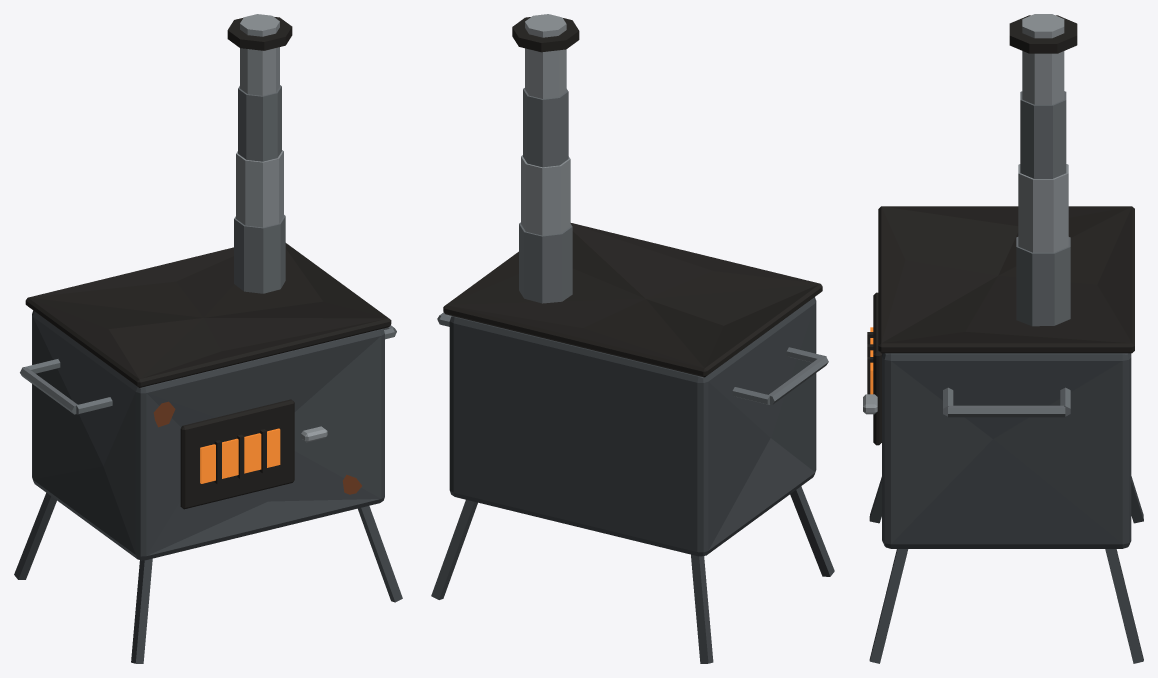
File: stove_heat_pohodnaya_idle.glb
3 views of the same model, side by side, from view 1: azimuth 30°, elevation 25°; view 2: azimuth 150°, elevation 25°; view 3: azimuth 270°, elevation 25° (orthographic). The views are drawn at different scales.
Visible parts, largest first — view 1: stove_heat_pohodnaya_idle; view 2: stove_heat_pohodnaya_idle; view 3: stove_heat_pohodnaya_idle.
Part boxes in pixels (x1=…): stove_heat_pohodnaya_idle: x1=14, y1=14, x2=402, y2=663; stove_heat_pohodnaya_idle: x1=431, y1=14, x2=834, y2=663; stove_heat_pohodnaya_idle: x1=863, y1=14, x2=1143, y2=663.
Size of the model in its own units: 0.576 by 0.9133 by 0.3831.
2 materials, 2 textured.
